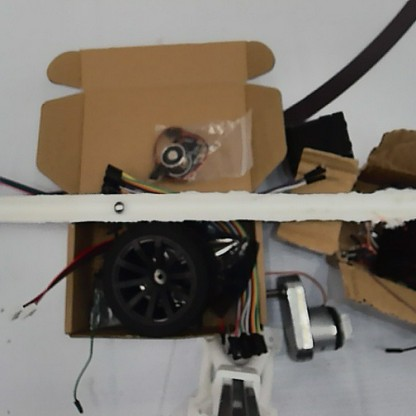ironball: (111, 199, 125, 214)
